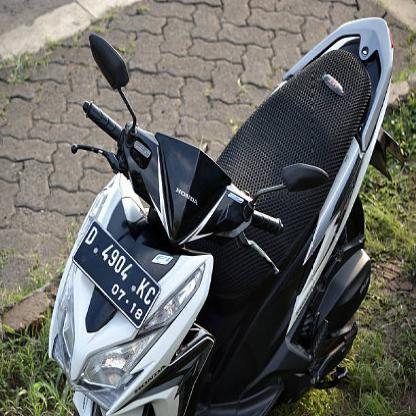Motorcycle: (45, 18, 400, 415)
